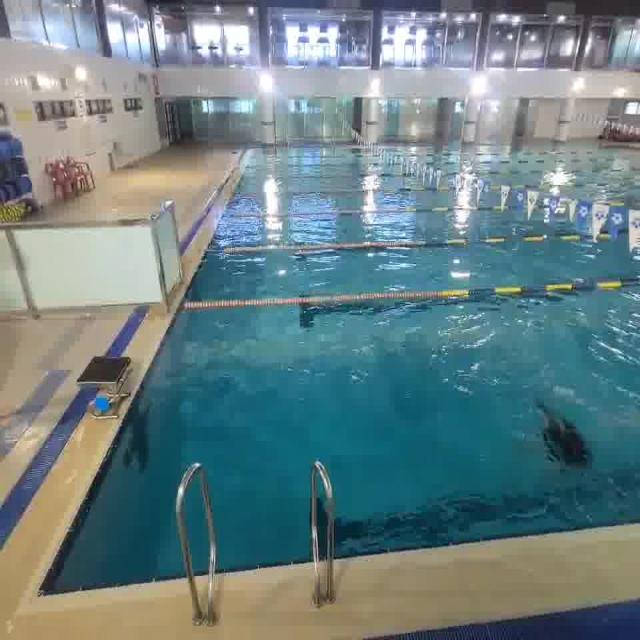Drowning: (514, 380, 616, 485)
